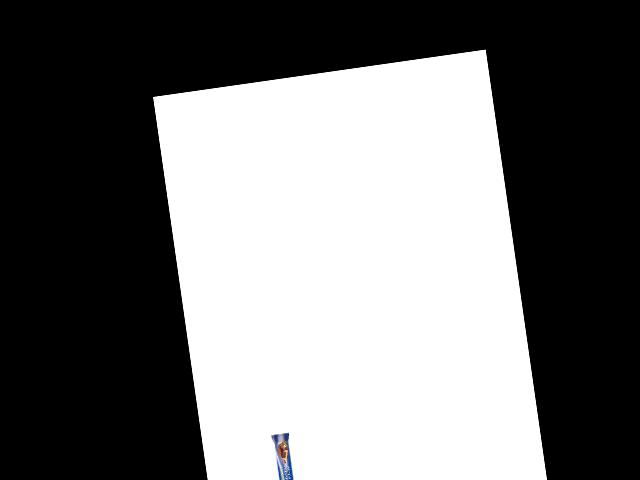chocolate: (269, 424, 303, 480)
